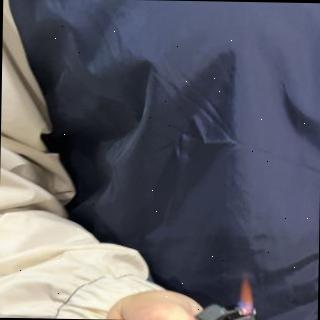fire: (238, 275, 254, 312)
